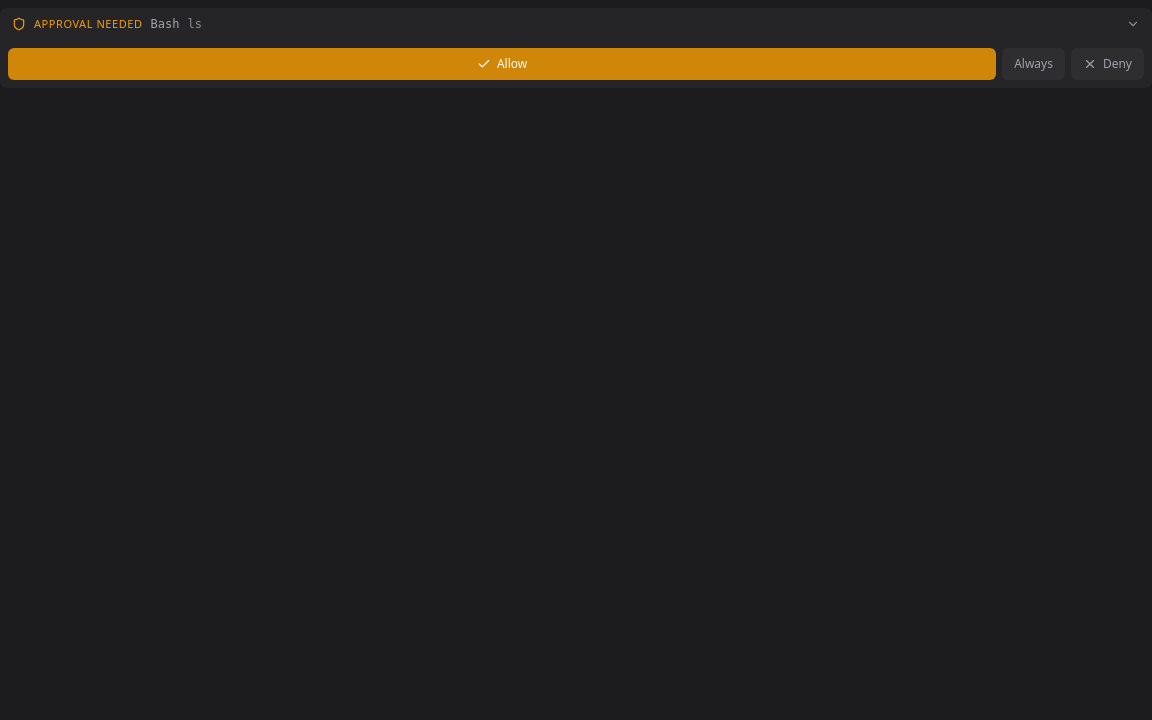
ApprovalCard (benign) › toggles the args open and closed on header clicks
Check: the text "cwd" is not shown
Click the button "Approval needed Bash ls": (88, 24) left=0, top=8, right=1151, bottom=40
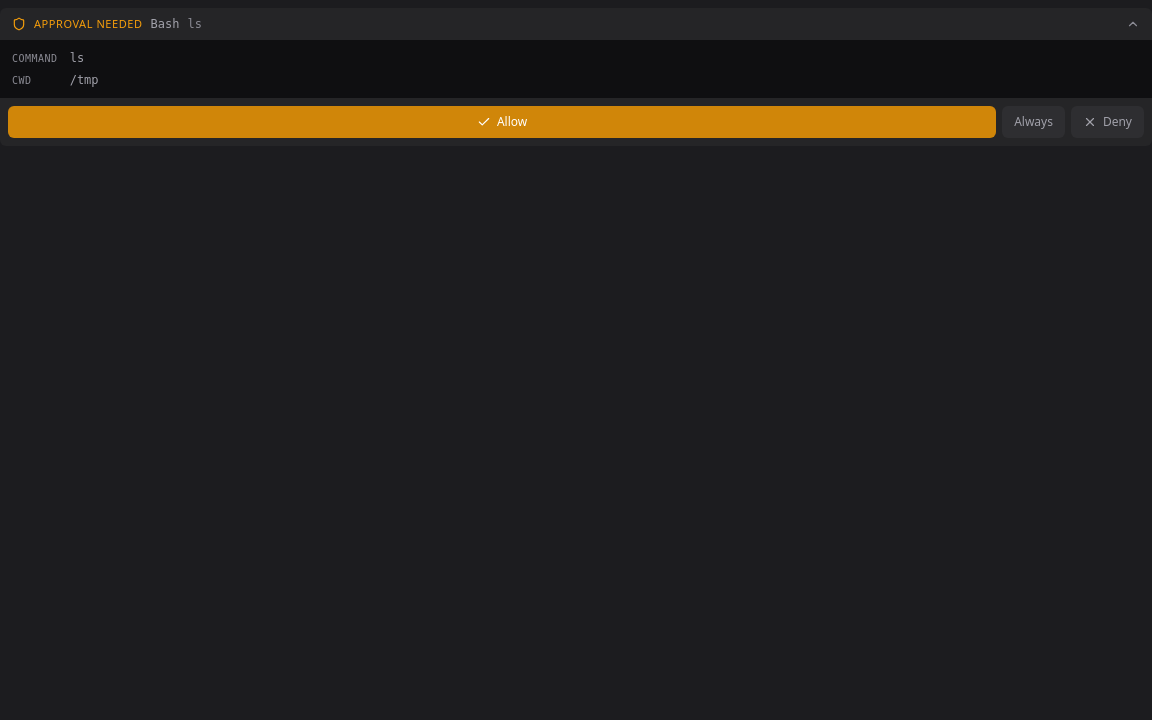
Check: the text "cwd" is shown, box left=12, top=75, right=32, bottom=86
Click the button "Approval needed Bash ls": (88, 24) left=0, top=8, right=1151, bottom=40
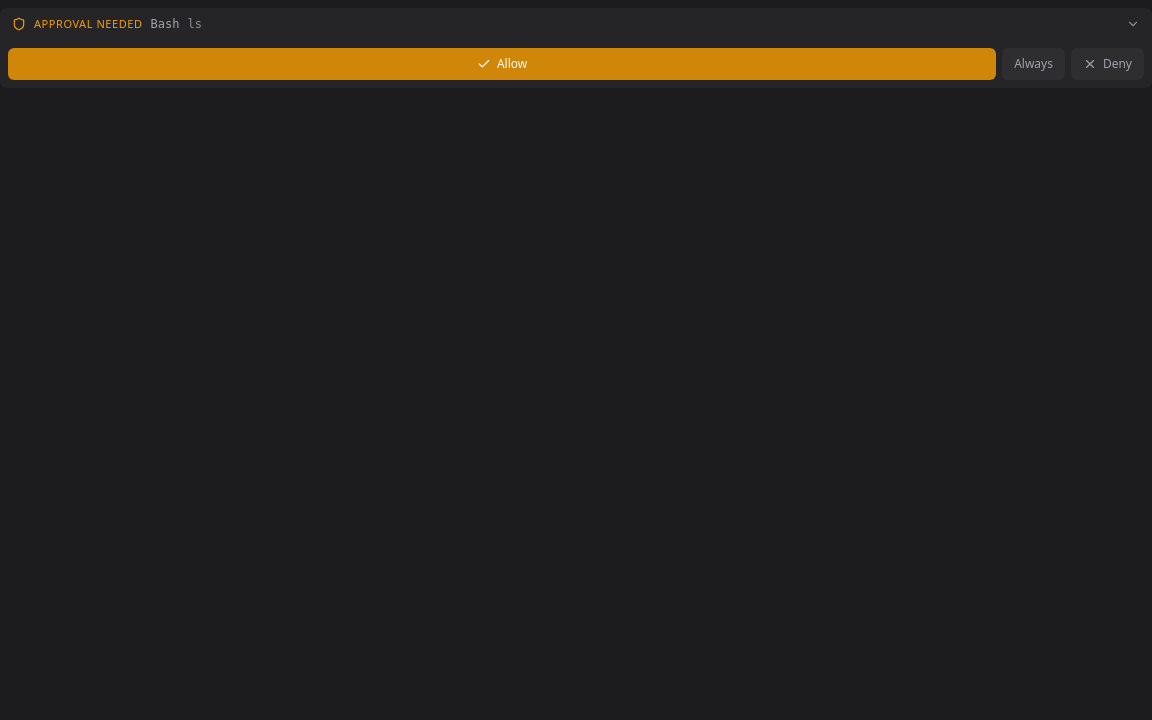
Check: the text "cwd" is gone
